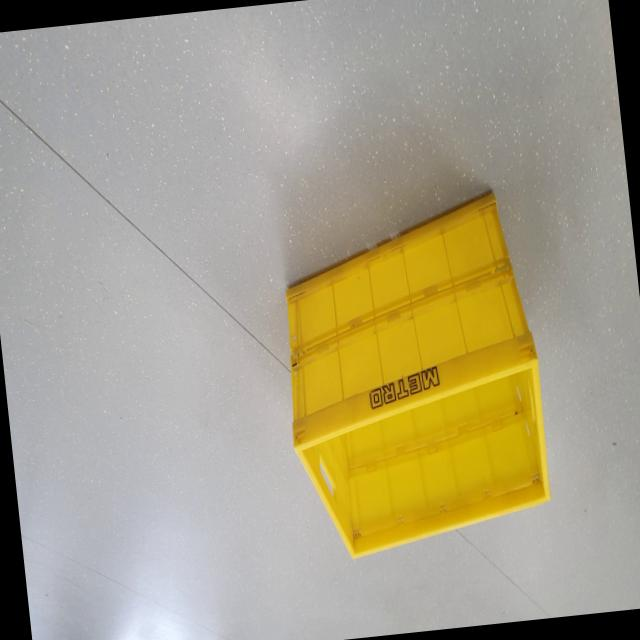box: (236, 150, 584, 590)
